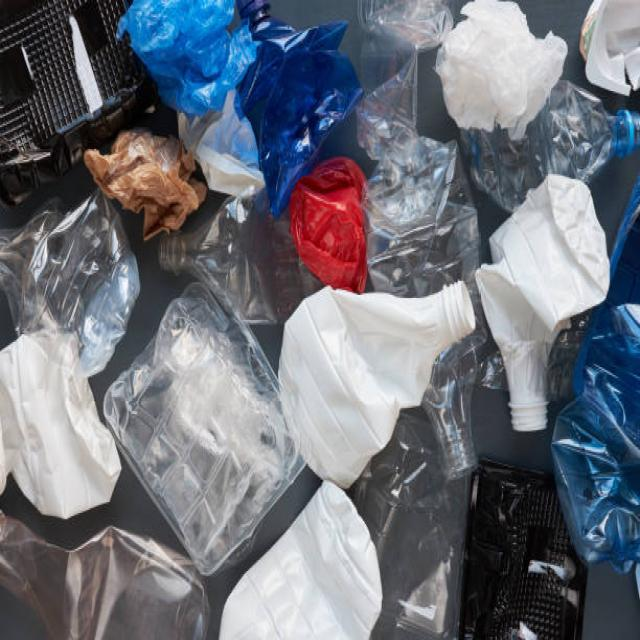plastic: (1, 71, 393, 497), (441, 23, 637, 580)
